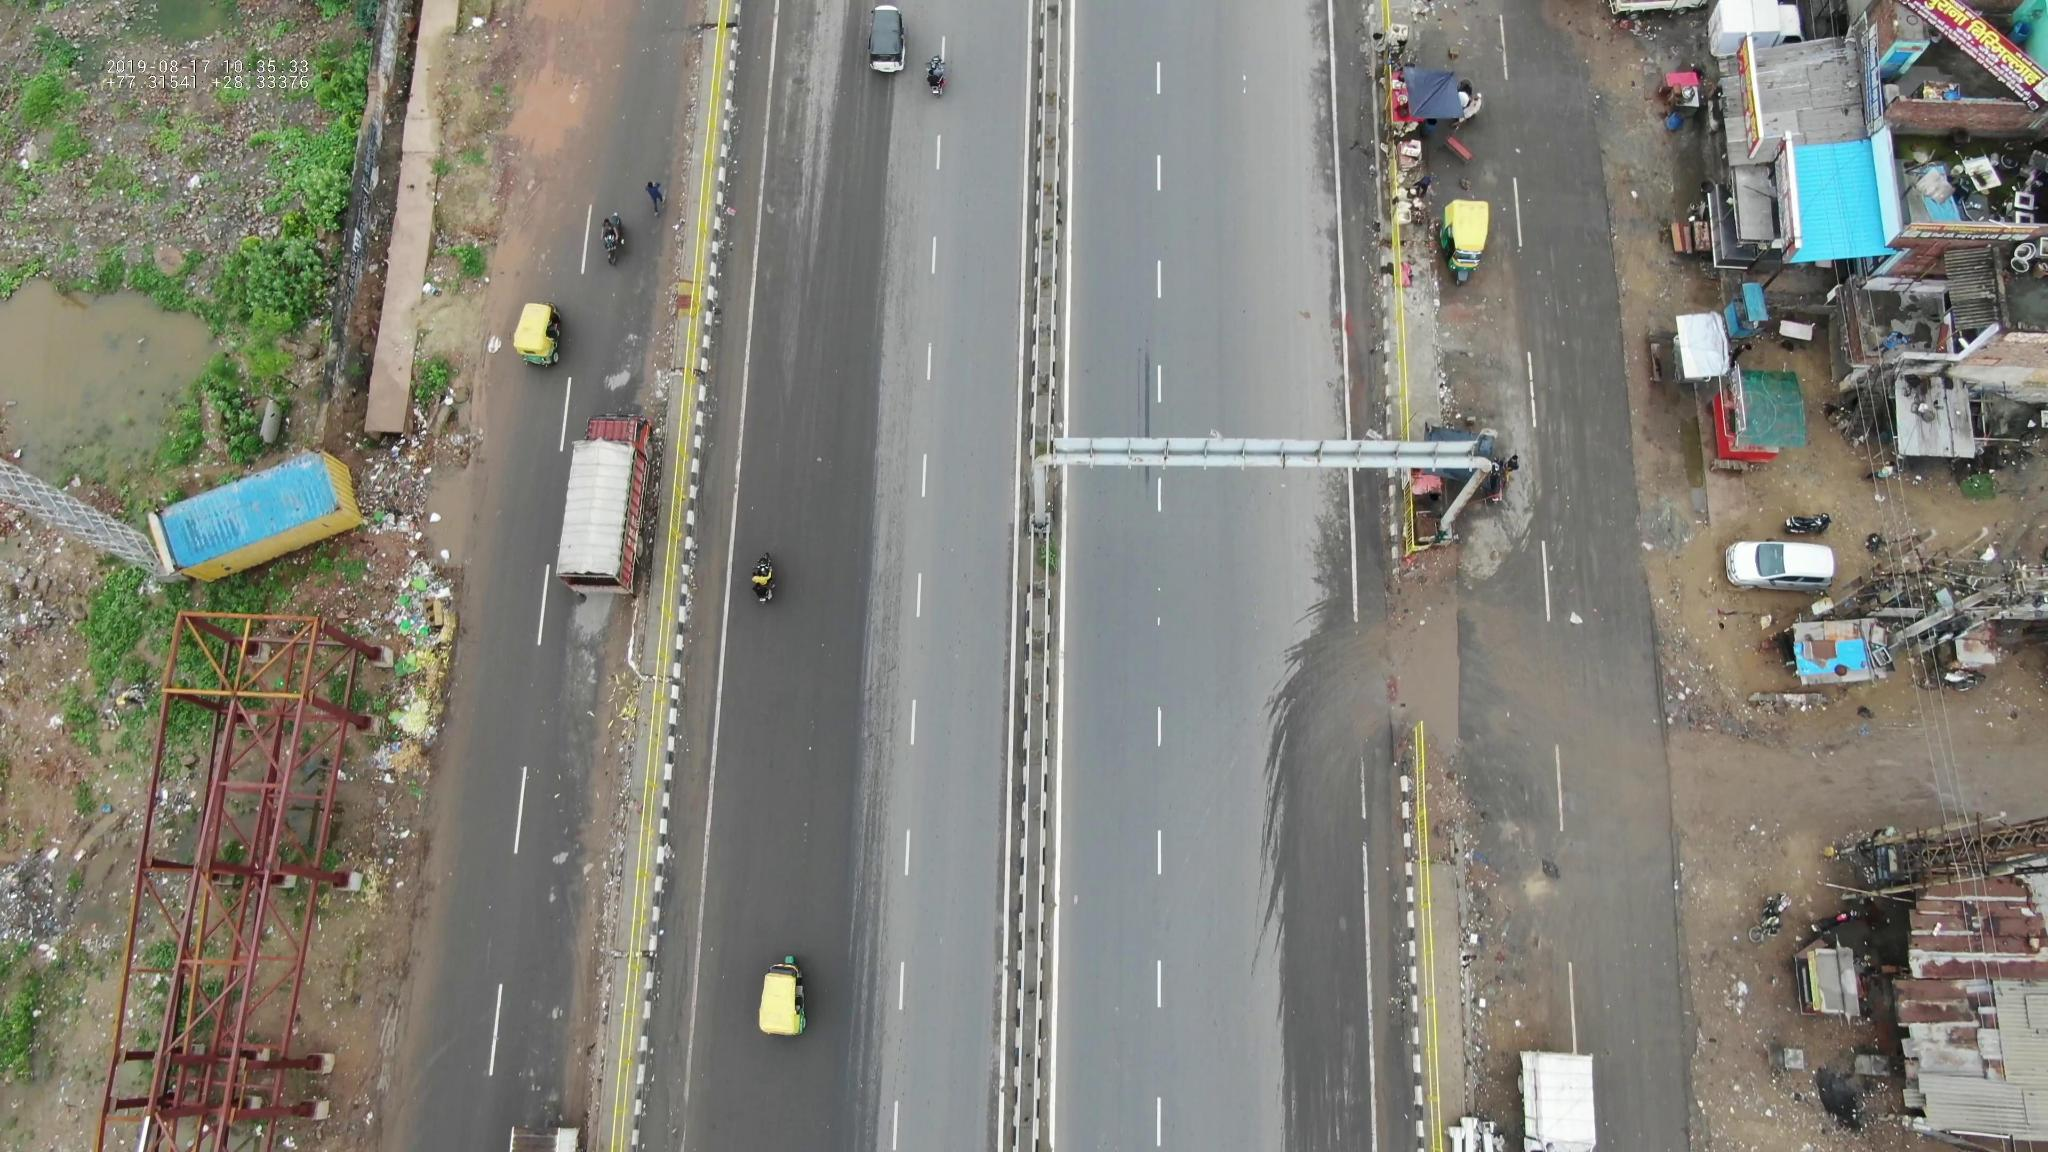Road_side_garbage: (369, 435, 481, 788)
